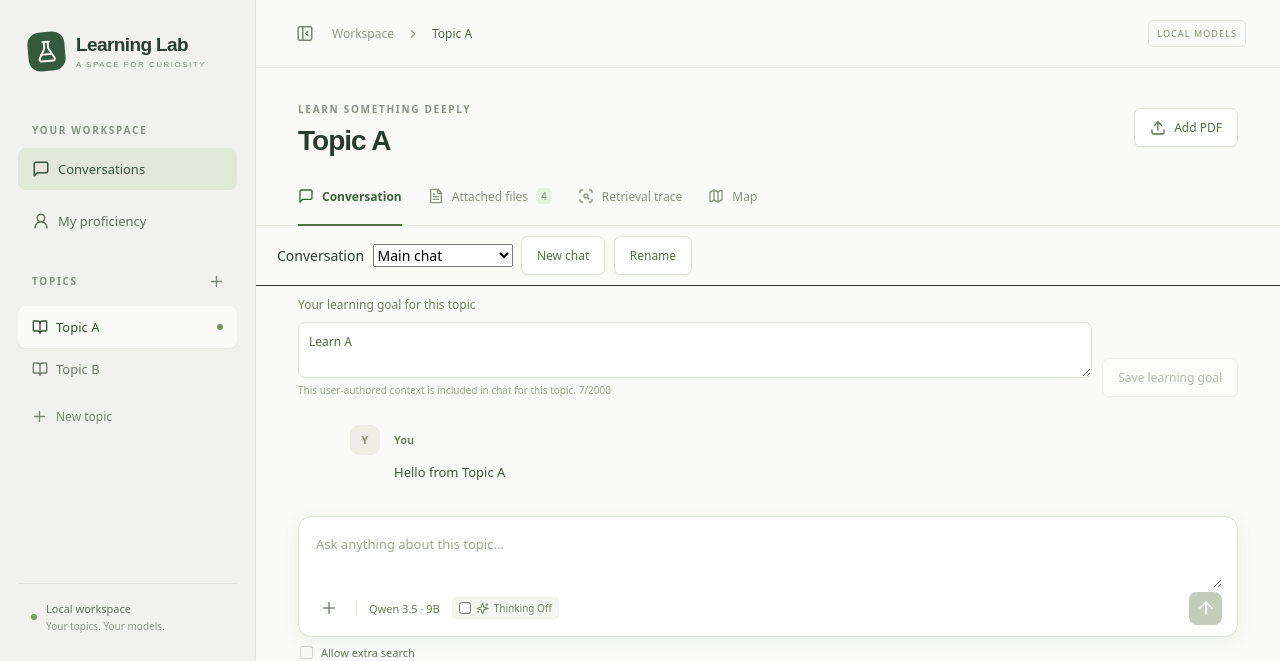
Test: document map navigation › map selection is independent and builds only after an explicit request
Click the button "Map": [733, 203] box [708,181,757,225]
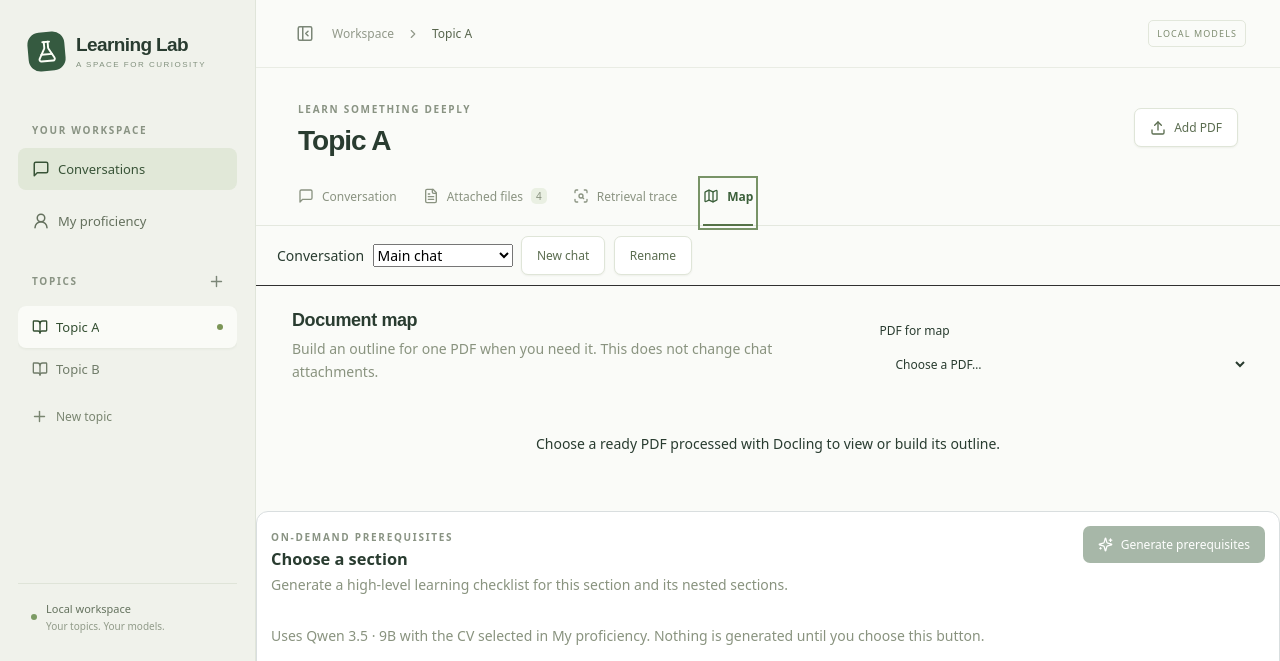
Select "Synthetic paper.pdf" in the dropdown labelled "PDF for map": [1064, 365] box [879,345,1248,384]
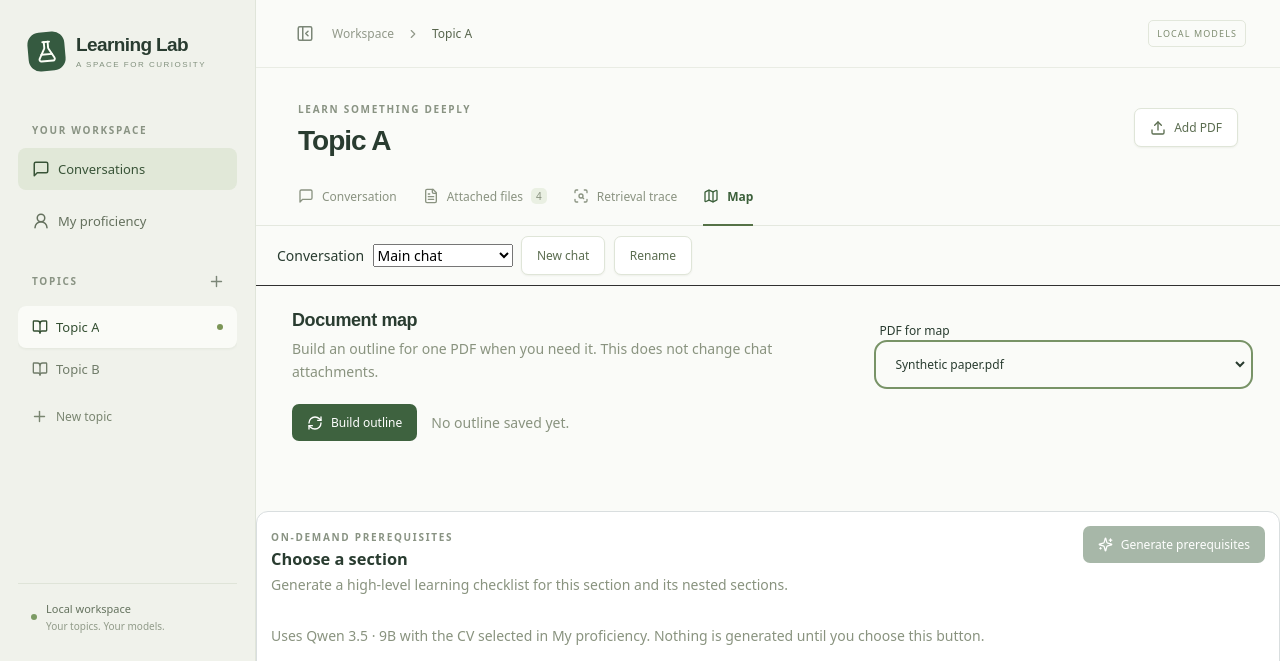
Result: the button "Build outline" is shown
Click the button "Build outline": [355, 423] box [292,404,417,441]
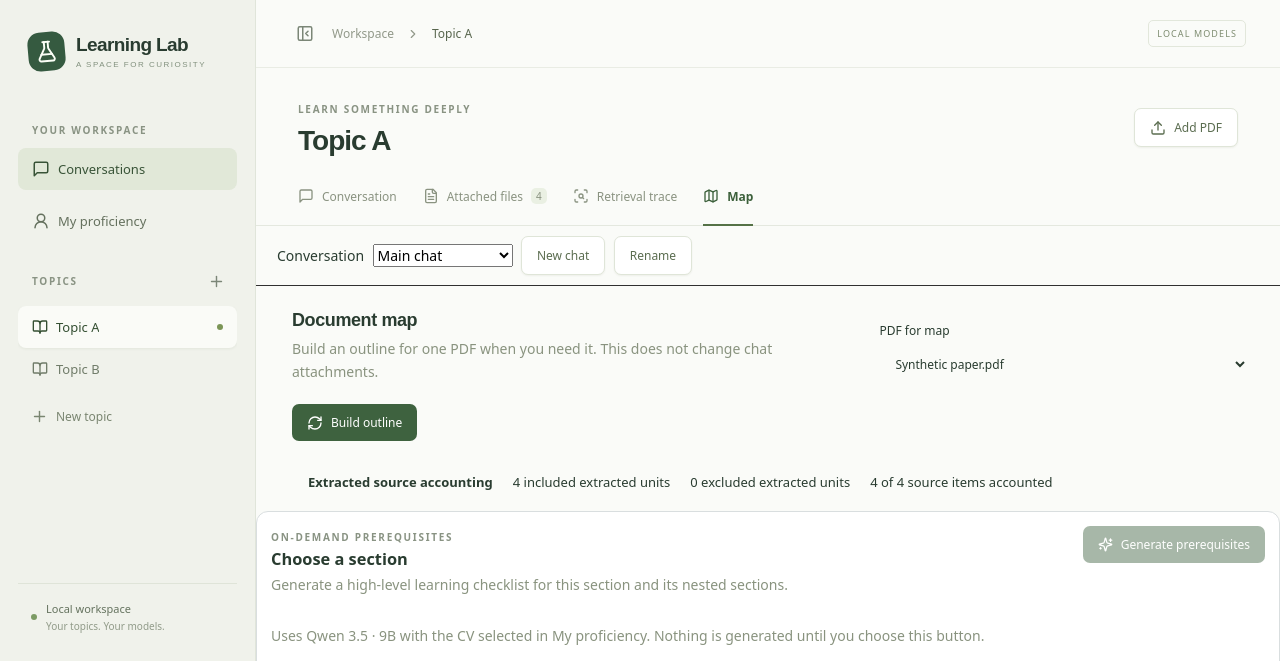
Click the button "Attached files 4": [485, 203] box [423,181,547,225]
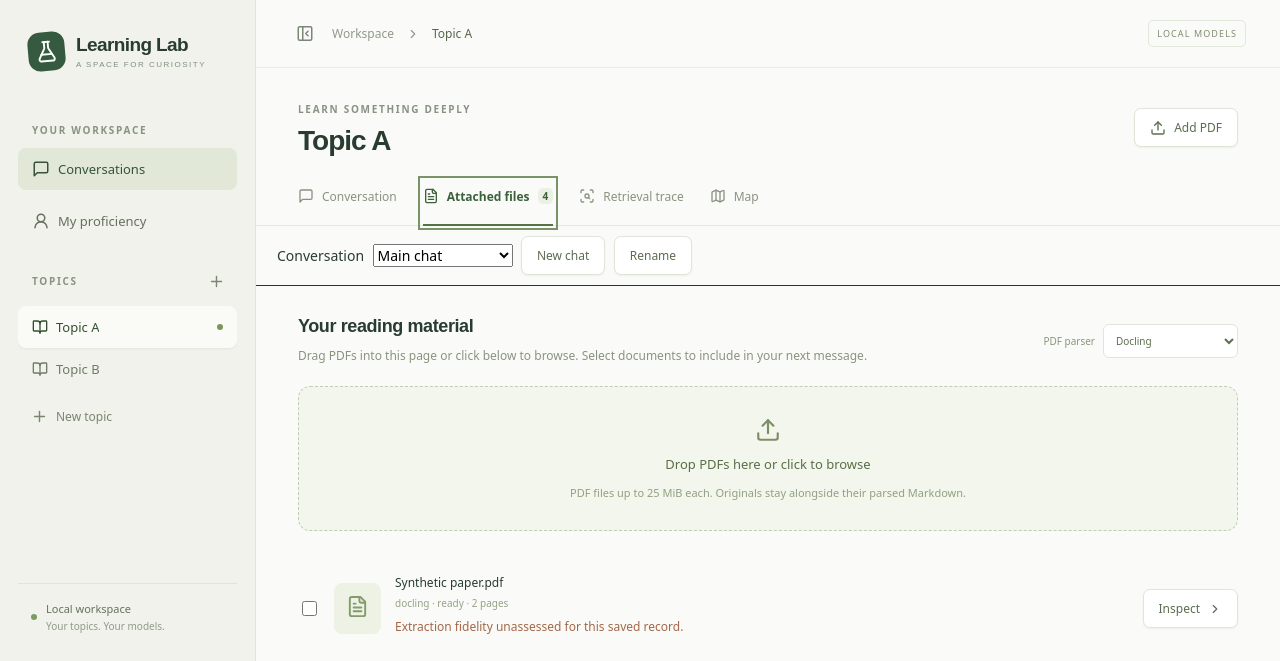
Result: the checkbox named "Include Synthetic paper.pdf in chat" is not checked at [302,601,317,616]
Click the button "Map": [734, 203] box [710,181,759,225]
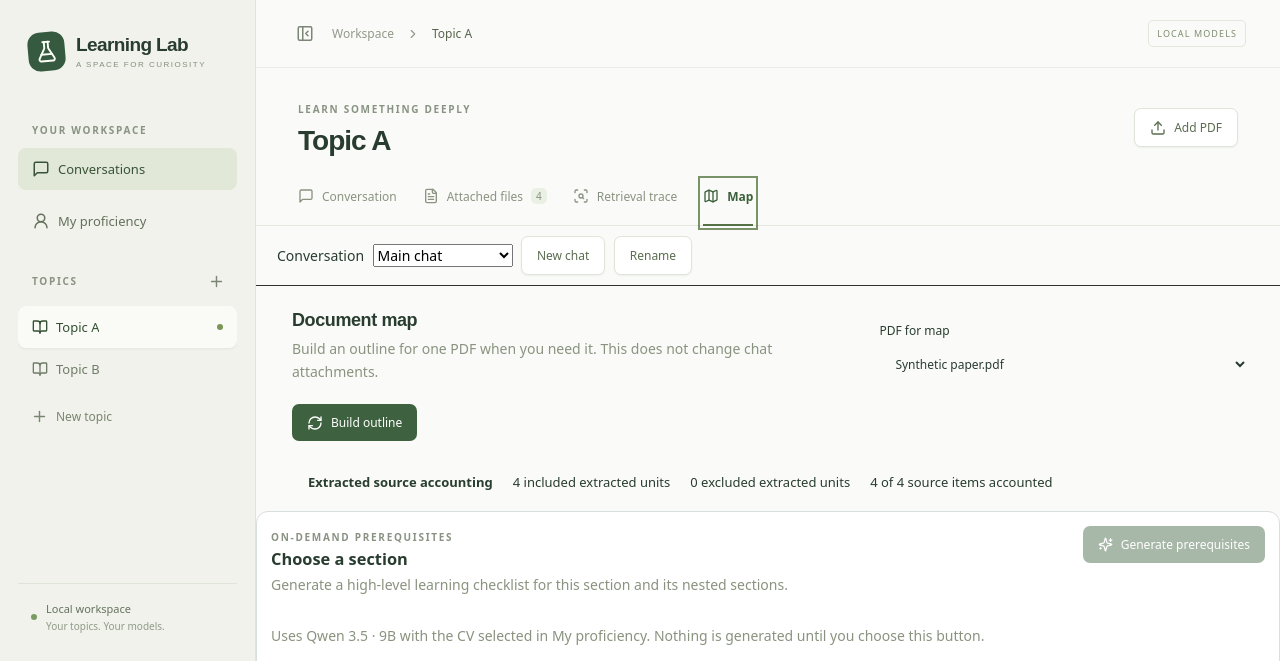
Result: the dropdown labelled "PDF for map" shows "Synthetic paper.pdf" at [879,345,1248,384]
